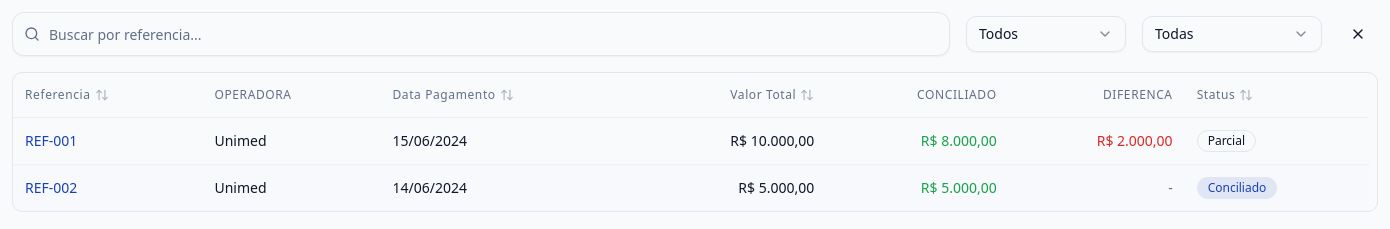
PaymentsTable › filters by search text
The image size is (1390, 229).
Type "REF-001" into the field with placeholder "Buscar por referencia...".
click(481, 34); type("REF-001")  # box [12,12,950,56]
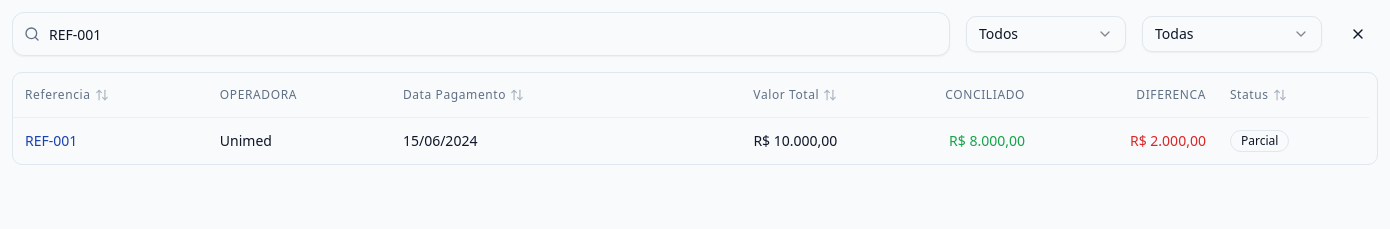
expect the link "REF-002" is gone: met
